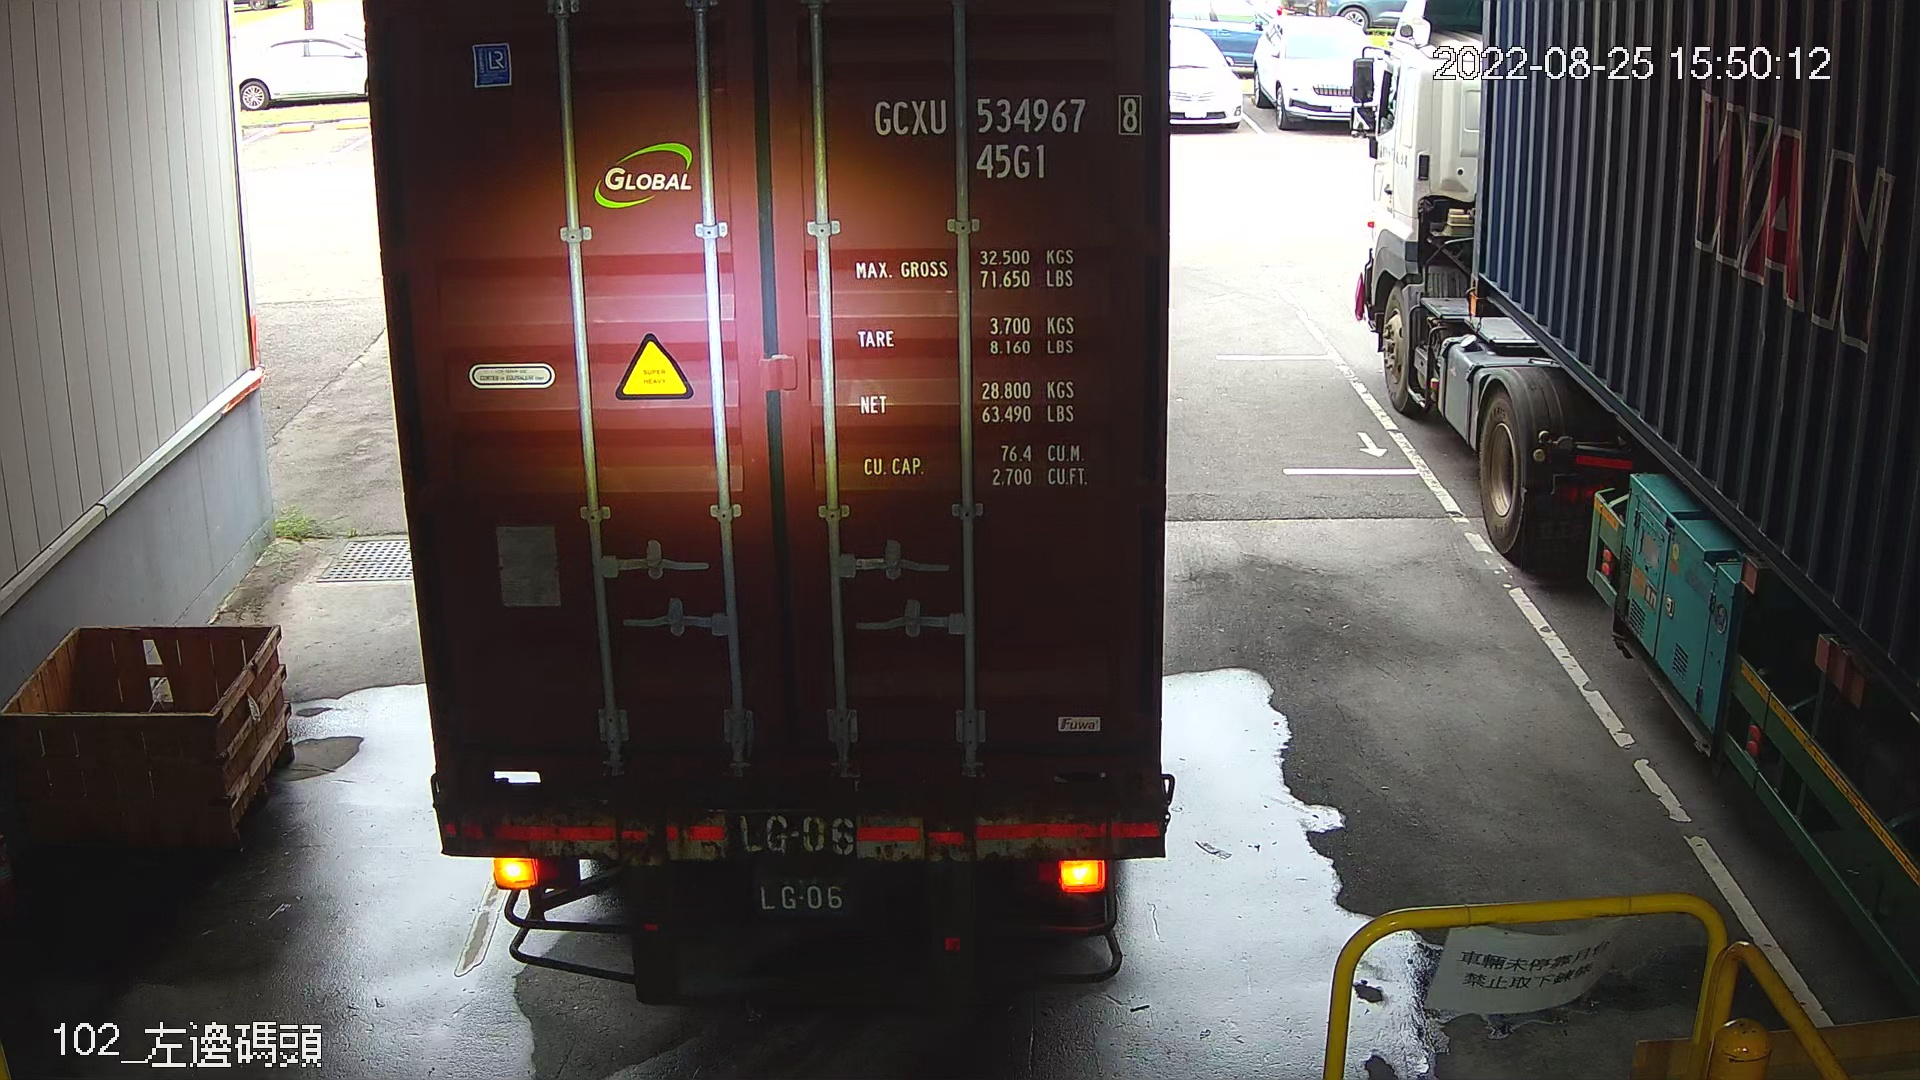container: (858, 79, 1150, 189)
